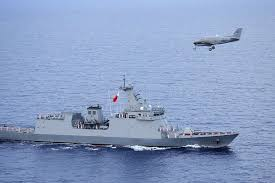maybay_muctieu: (191, 27, 244, 48)
tau_muctieu: (1, 81, 240, 154)
